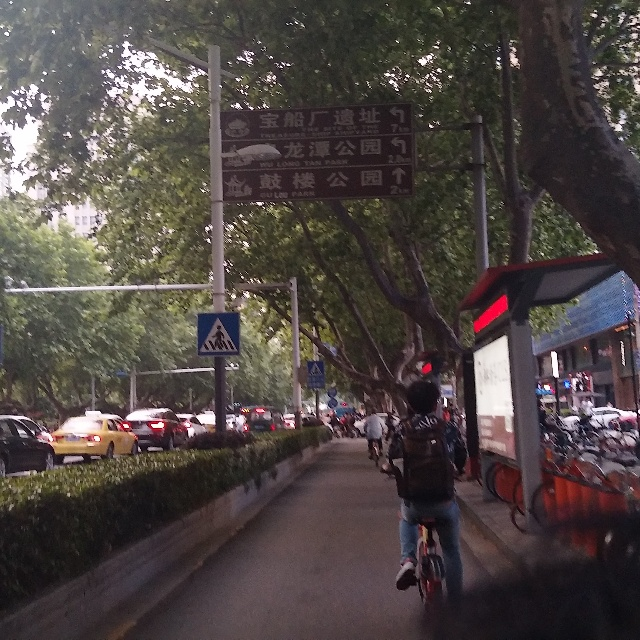crosswalk: (200, 316, 240, 355)
